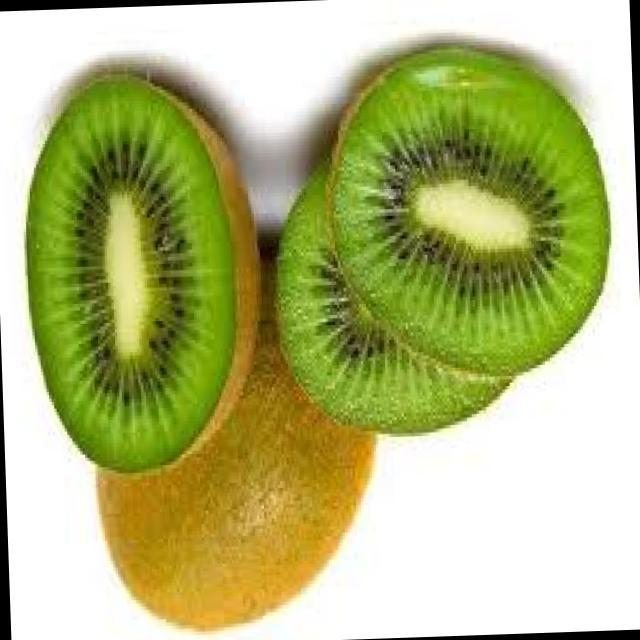Kiwi: (300, 20, 621, 402), (6, 49, 258, 490)
